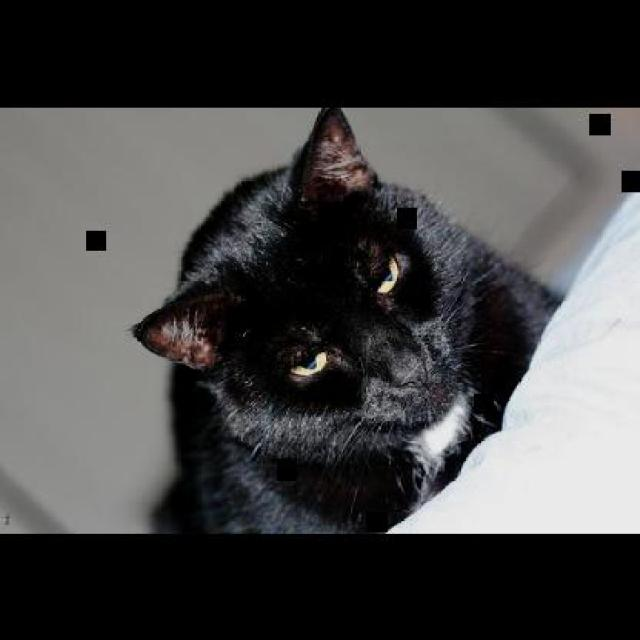unauthorized: (129, 104, 565, 534)
